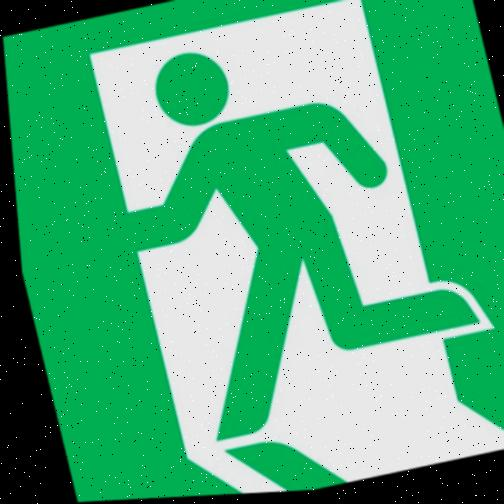emergency_exit: (1, 1, 502, 502)
